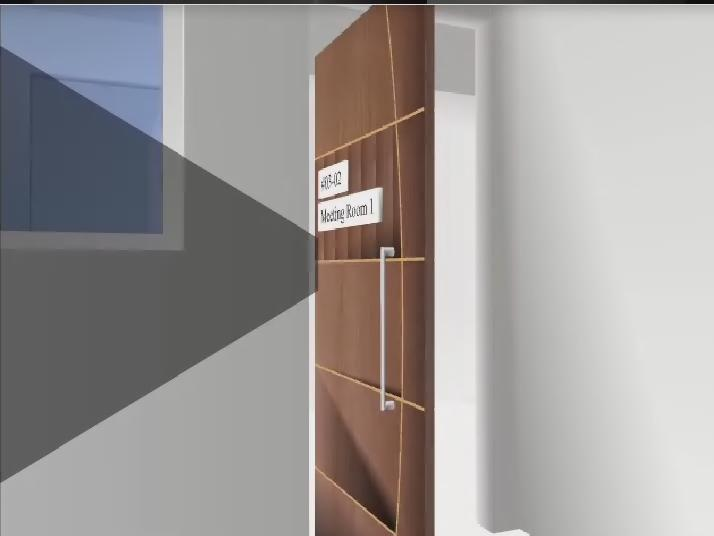door: (316, 6, 434, 536)
